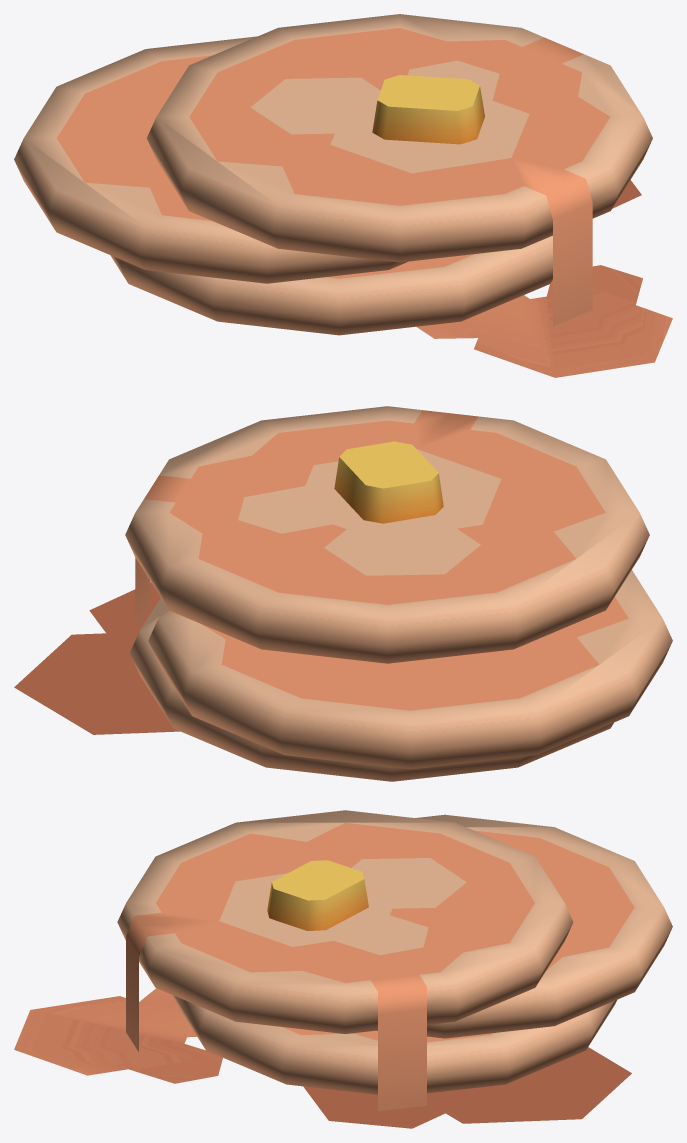
Rendered from pancakes.glb.
3 views of the same model, one above another, from view 1: azimuth 30°, elevation 25°; view 2: azimuth 150°, elevation 25°; view 3: azimuth 270°, elevation 25° (orthographic). The views are drawn at different scales.
Parts seen in each view (by area): view 1: pancake (×3), pancakes, butter; view 2: pancake (×3), pancakes, butter; view 3: pancake (×3), pancakes, butter.
Boxes of the visible parts, box(x1,y1,x2,y2) form: pancake (×3): box(14, 14, 652, 335); pancakes: box(416, 180, 672, 377); butter: box(372, 75, 484, 144); pancake (×3): box(125, 406, 672, 781); pancakes: box(14, 582, 180, 734); butter: box(334, 441, 443, 523); pancake (×3): box(117, 810, 672, 1110); pancakes: box(14, 988, 631, 1128); butter: box(267, 860, 368, 930).
Size of the model in its own units: 0.4355 by 0.1216 by 0.5039.
Materials: 1 (1 with a texture image).
